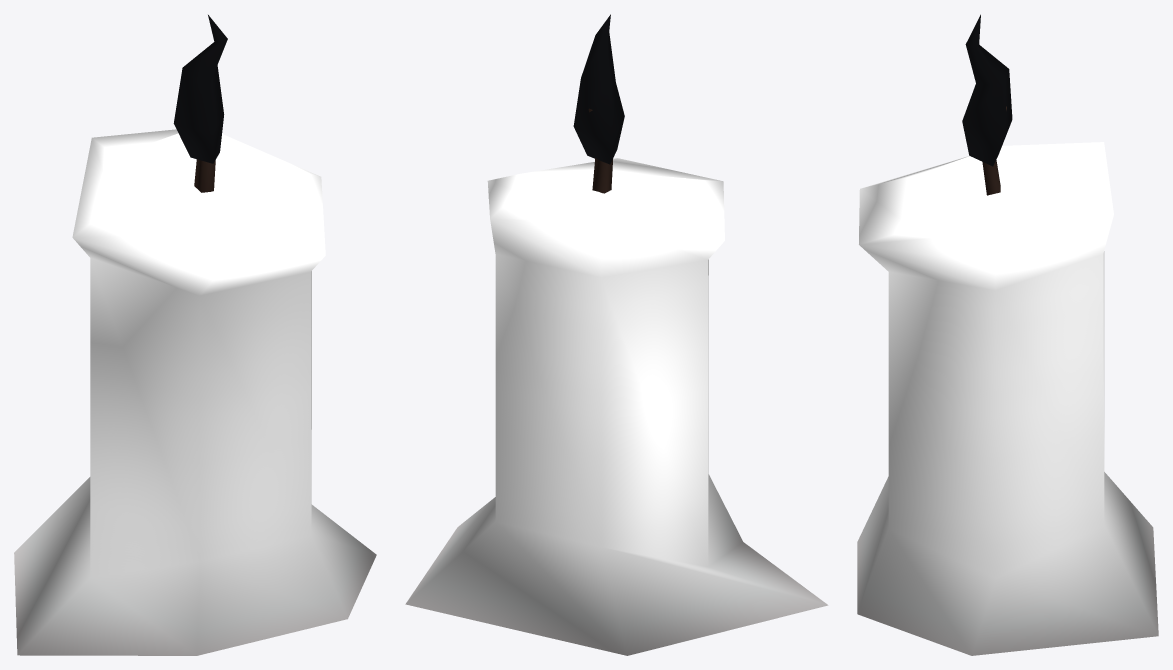
Rendered from CandleShapeD.007.glb.
The picture shows the model from 3 angles, left to right: view 1: azimuth 30°, elevation 25°; view 2: azimuth 150°, elevation 25°; view 3: azimuth 270°, elevation 25°; orthographic projection. The views are drawn at different scales.
Parts seen in each view (by area): view 1: CandleShapeD.007; view 2: CandleShapeD.007; view 3: CandleShapeD.007.
Part boxes in pixels (<box>): CandleShapeD.007: <box>14,15,376,655</box>; CandleShapeD.007: <box>405,14,828,655</box>; CandleShapeD.007: <box>857,14,1158,655</box>.
Size of the model in its own units: 0.1822 by 0.2697 by 0.1308.
Materials: 2 (2 with a texture image).
